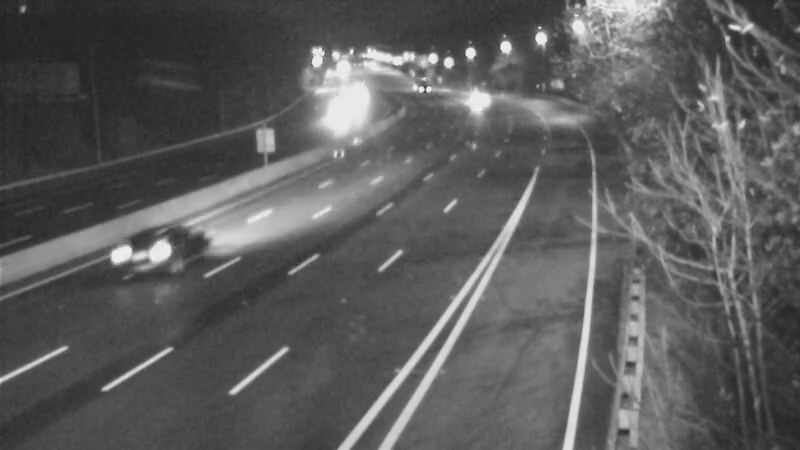vehicle: (103, 210, 183, 290), (393, 59, 443, 109), (451, 71, 501, 121), (315, 85, 365, 135)
